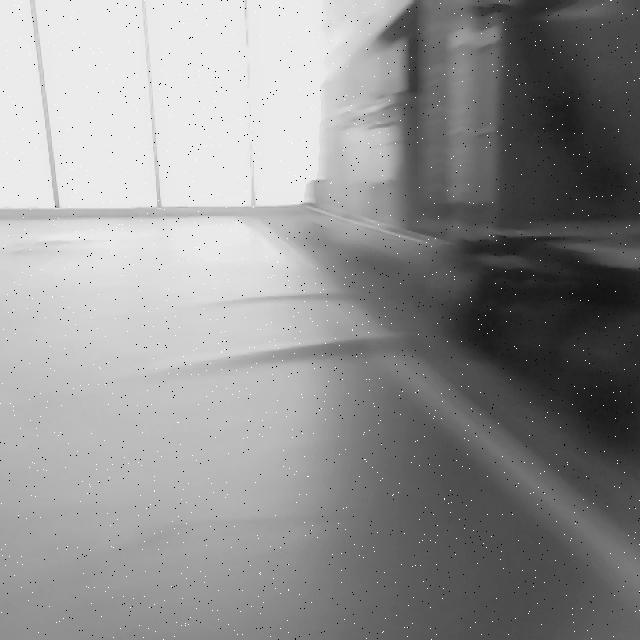right_lane: (334, 311, 638, 605)
